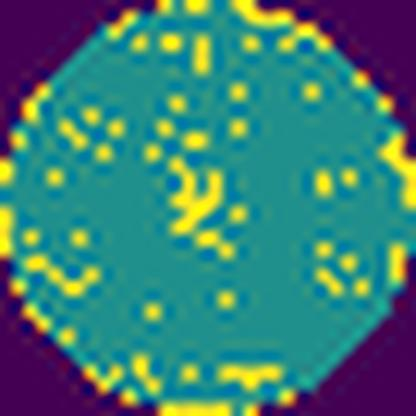Center: (166, 153, 240, 263)
